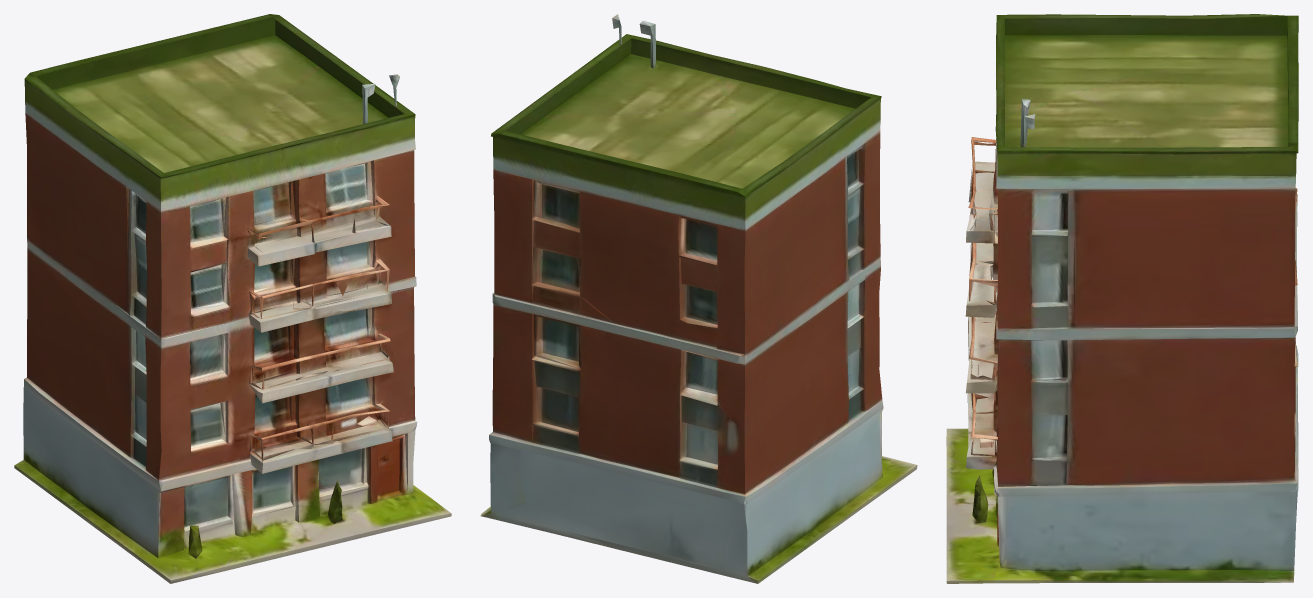
File: cityBrickApartment.glb
The picture shows the model from 3 angles, left to right: view 1: azimuth 30°, elevation 25°; view 2: azimuth 150°, elevation 25°; view 3: azimuth 270°, elevation 25°; orthographic projection. The views are drawn at different scales.
Visible parts, largest first — view 1: model; view 2: model; view 3: model.
Part boxes in pixels (bbox=[...]): model: bbox=[14, 14, 451, 583]; model: bbox=[480, 14, 917, 583]; model: bbox=[946, 14, 1298, 583].
Bounding box in the file's own units: 1.34 × 1.9 × 1.32.
1 material, 1 textured.
